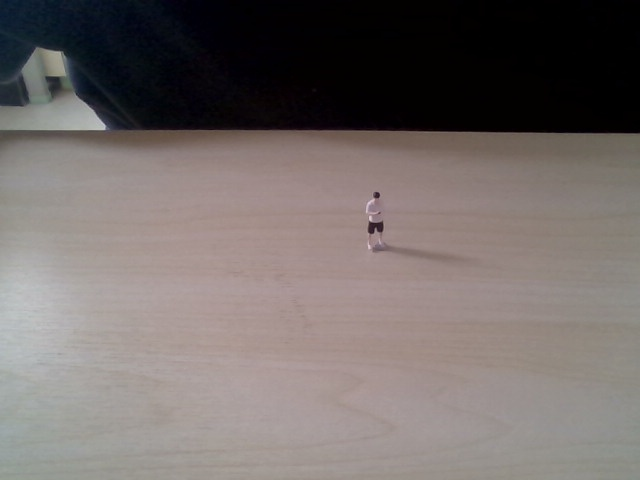walk: (362, 189, 386, 252)
